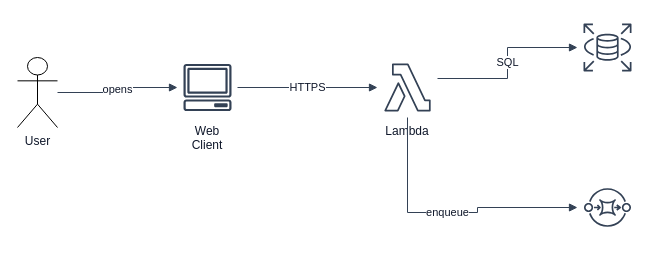
Some shapes in this 655 by 276 pixel diagram are drawn without their labels. Each missing label, with the centre of its shape:
"RDS" belongs at (x=607, y=47).
"SQS" belongs at (x=607, y=207).
